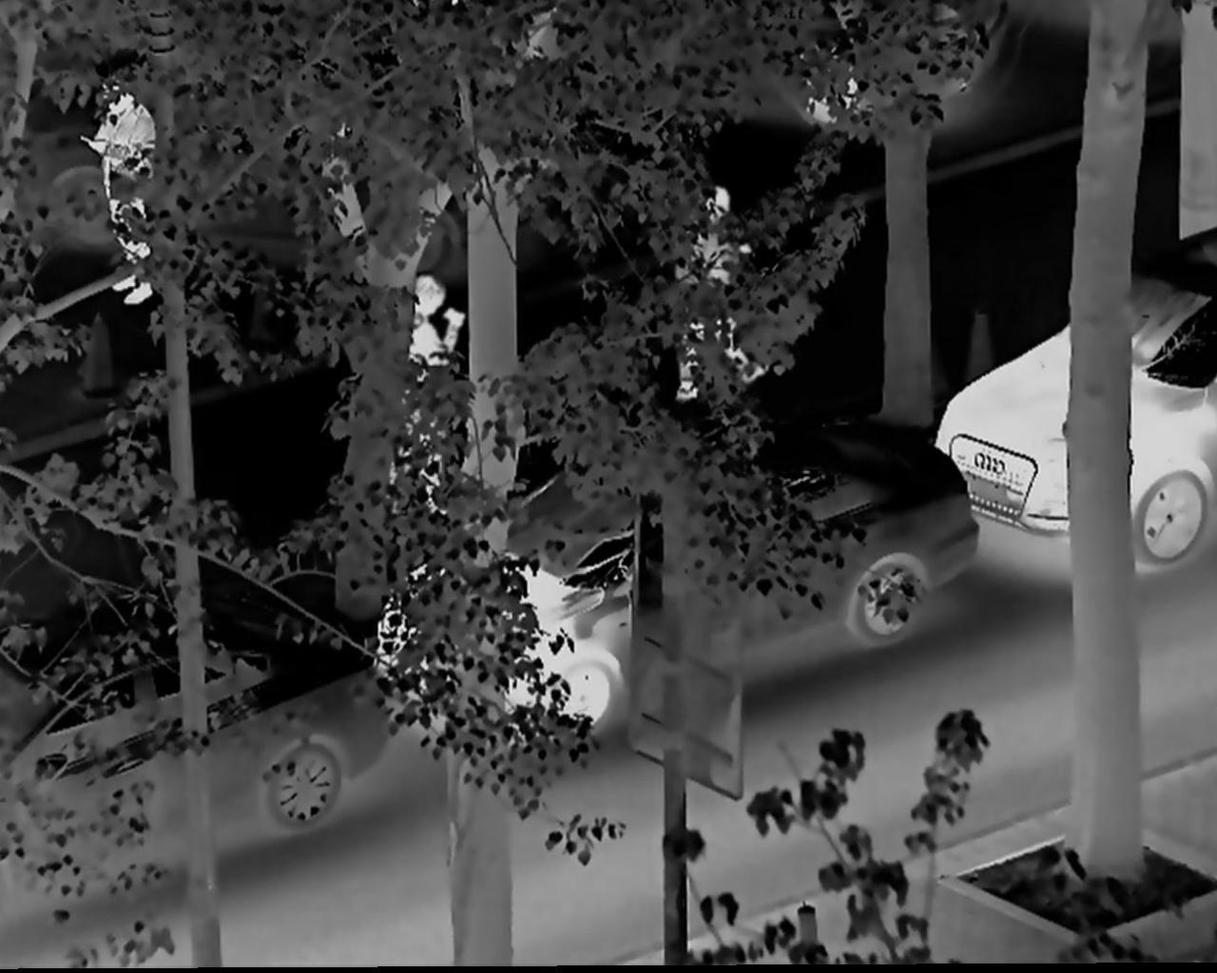person: (660, 182, 765, 402), (81, 77, 171, 310), (381, 271, 466, 506)
